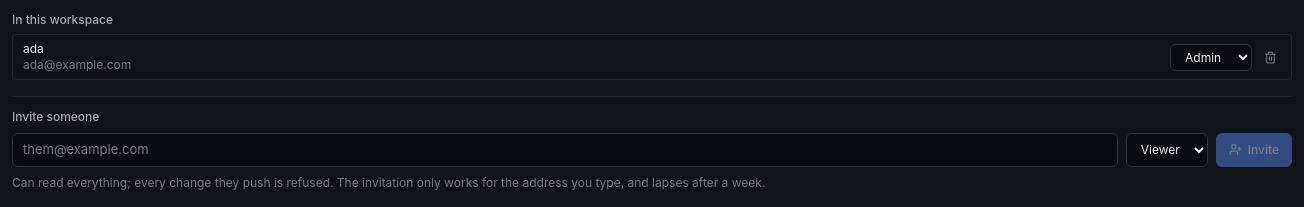
MembersPanel › will not invite something that is not an address
Type "grace" into the field with placeholder "them@example.com" at (565, 150), box x1=12 y1=133 x2=1118 y2=166
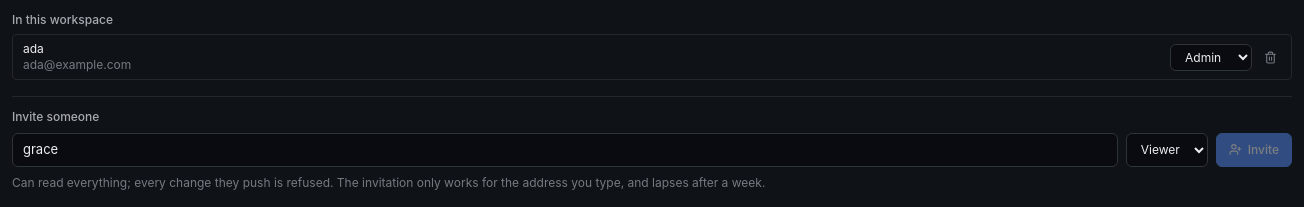
Expected: the button "Invite" is disabled, x1=1216 y1=133 x2=1292 y2=166
Replace the text in the field named "Address to invite" with "grace@example.com" at (565, 150), box x1=12 y1=133 x2=1118 y2=166
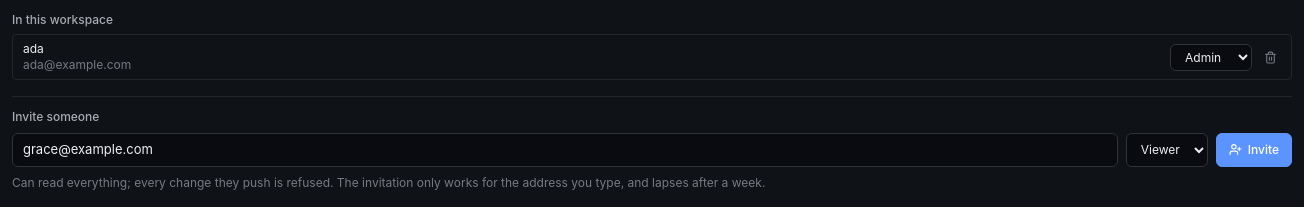
Expected: the button "Invite" is enabled, x1=1216 y1=133 x2=1292 y2=166
